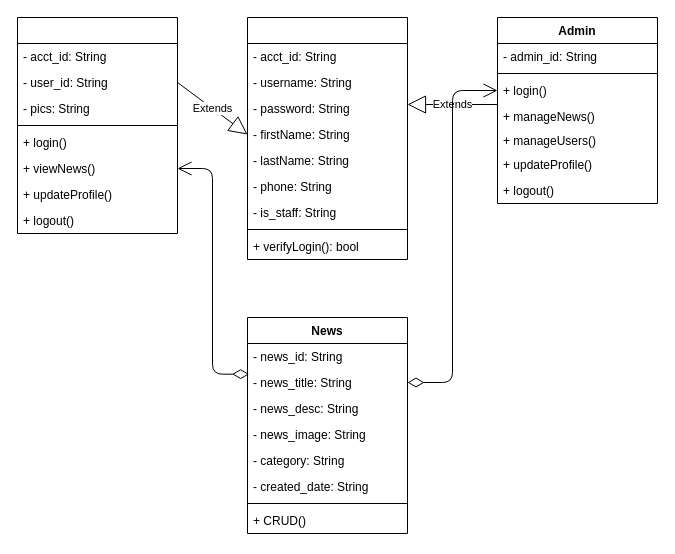
The diagram is 675 pixels wide and 554 high, and some of its shapes have lost their labels. Each missing label, with the box of its shape:
Account: (246, 16, 408, 260)
Users: (16, 16, 178, 234)
